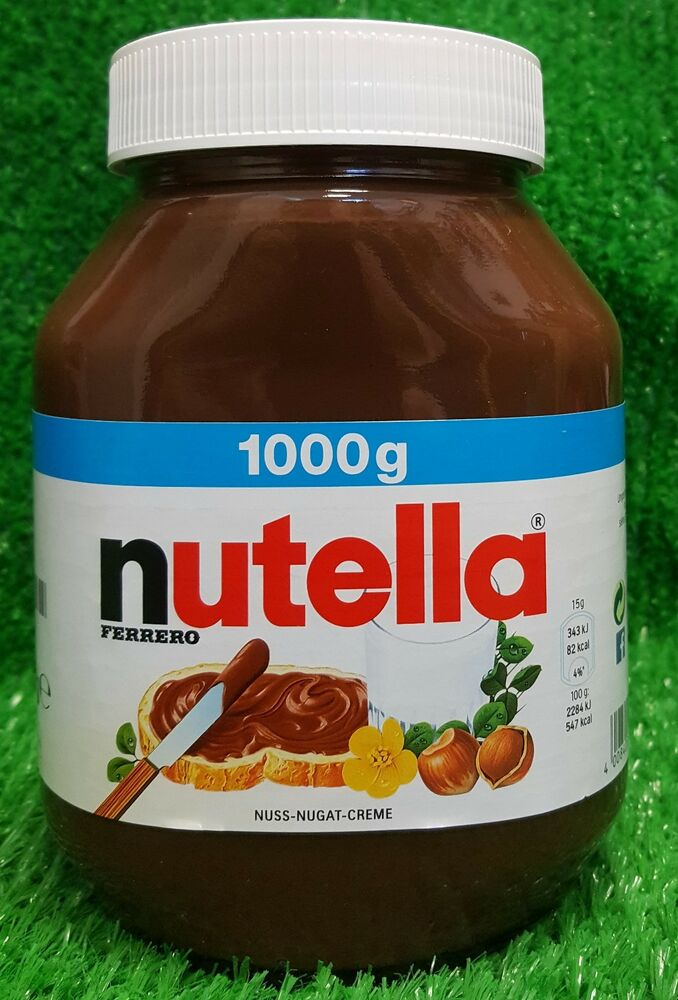nutella: (30, 19, 626, 975)
